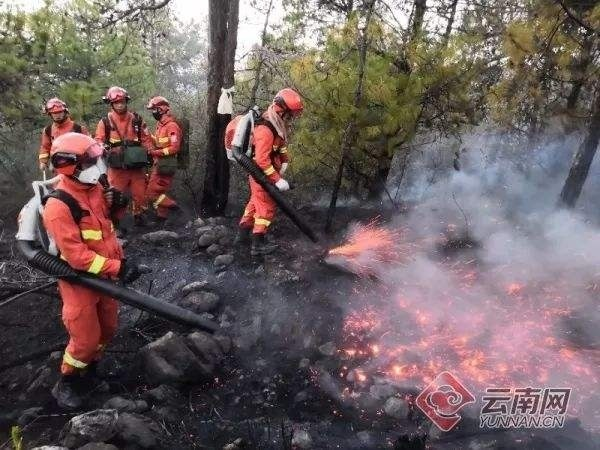fire: (332, 232, 600, 412)
